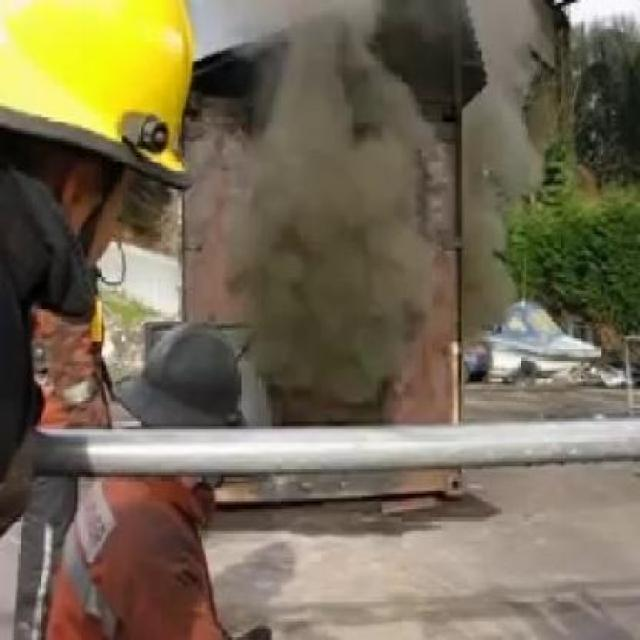smoke: (244, 53, 416, 390), (462, 117, 528, 316), (484, 8, 544, 104)
